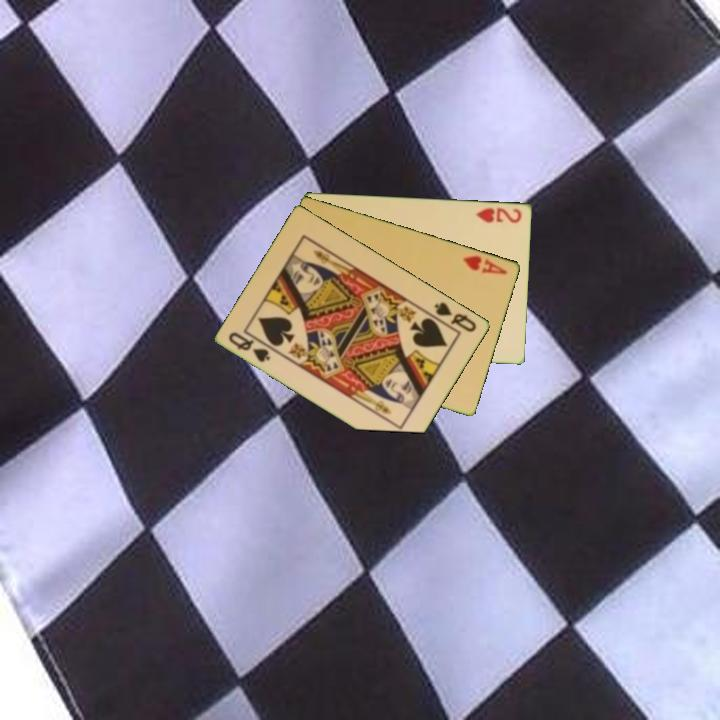2h: (473, 204, 525, 226)
Ah: (460, 252, 510, 277)
Qs: (431, 298, 480, 335), (225, 328, 274, 365)
